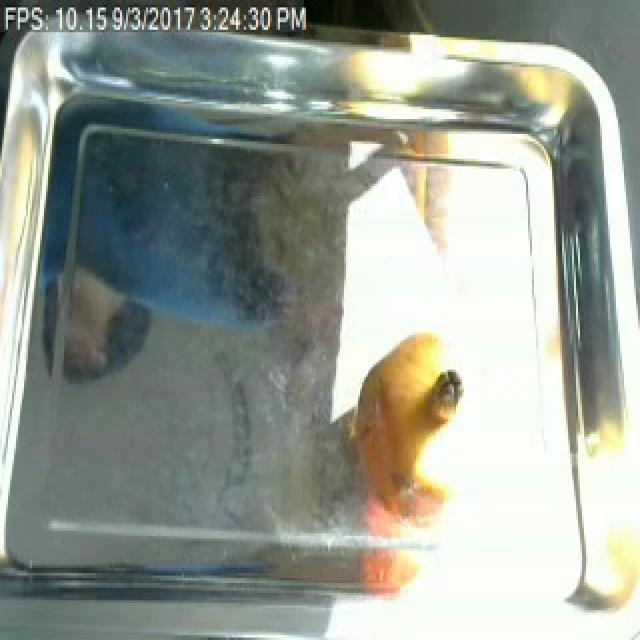fruit: (332, 312, 504, 534)
